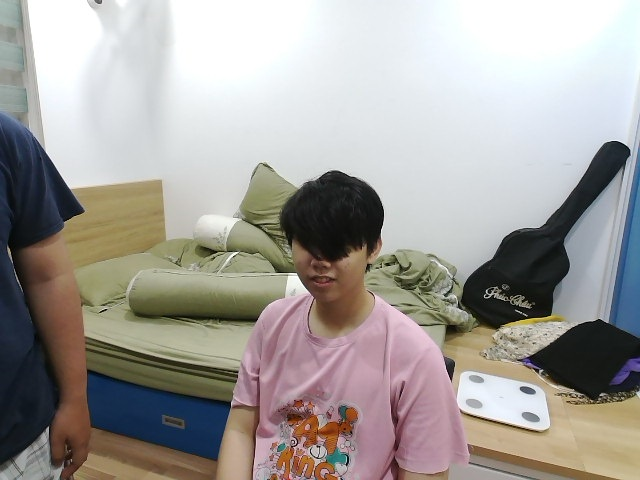face: (278, 170, 385, 304)
